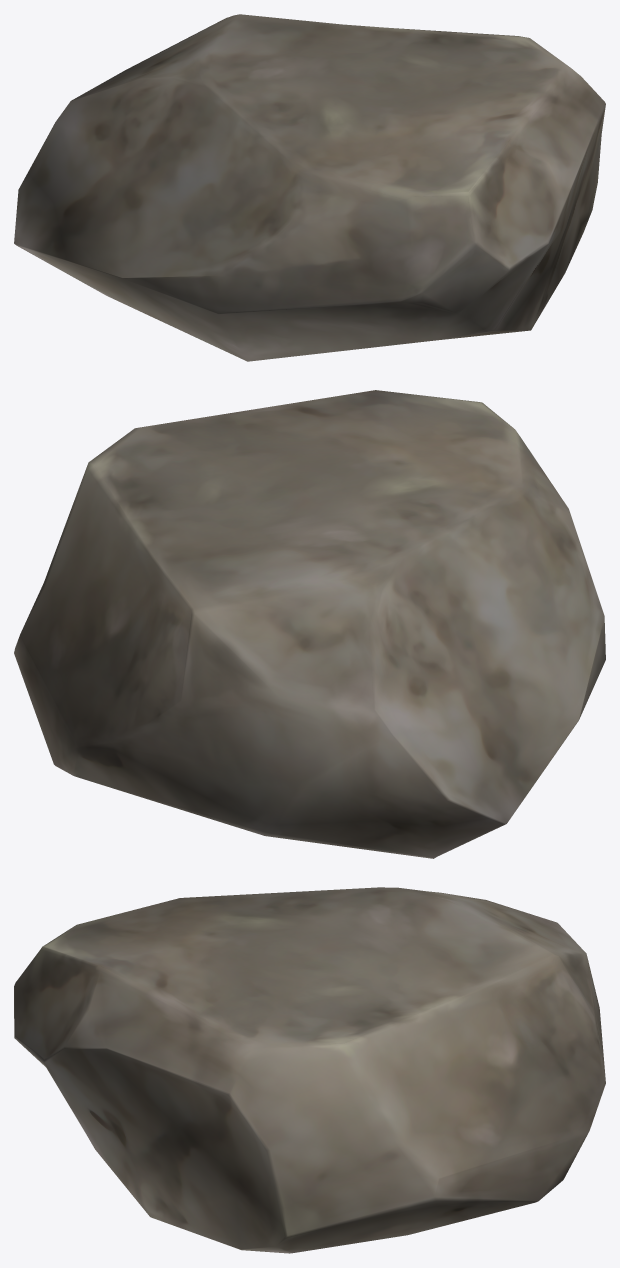
Rendered from rock-3.glb.
3 renders of one model, top to bottom at view 1: azimuth 30°, elevation 25°; view 2: azimuth 150°, elevation 25°; view 3: azimuth 270°, elevation 25°, orthographic. The views are drawn at different scales.
Visible parts, largest first — view 1: rock_3_Cube.018; view 2: rock_3_Cube.018; view 3: rock_3_Cube.018.
Part boxes in pixels (left/top/right/bottom): rock_3_Cube.018: left=14, top=14, right=605, bottom=361; rock_3_Cube.018: left=14, top=390, right=605, bottom=858; rock_3_Cube.018: left=14, top=887, right=605, bottom=1253.
Bounding box in the file's own units: 1.83 × 0.8241 × 1.86.
Materials: 1 (1 with a texture image).
